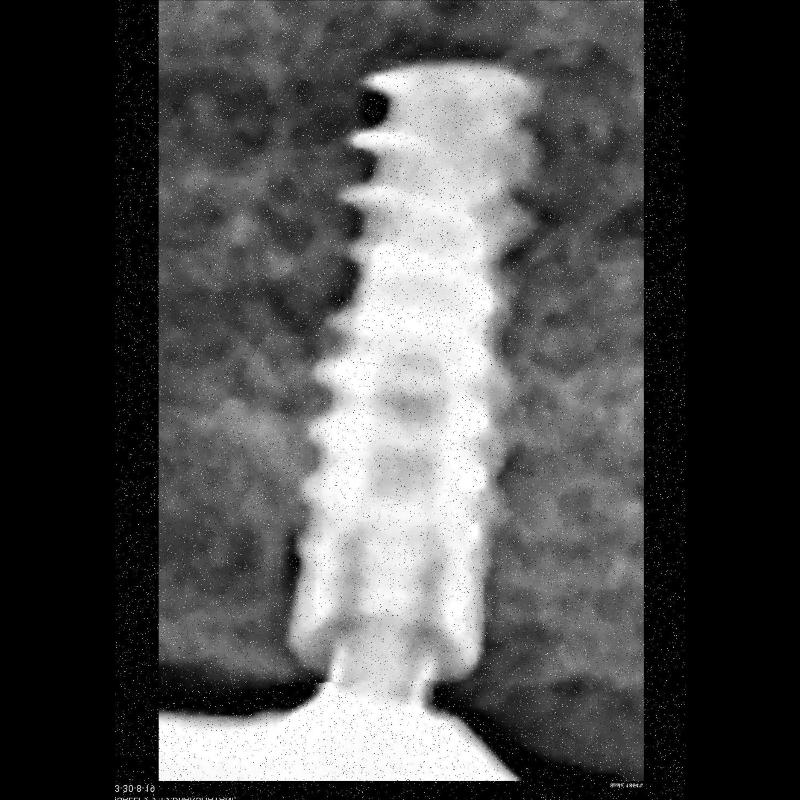NORIS: (270, 51, 560, 682)
